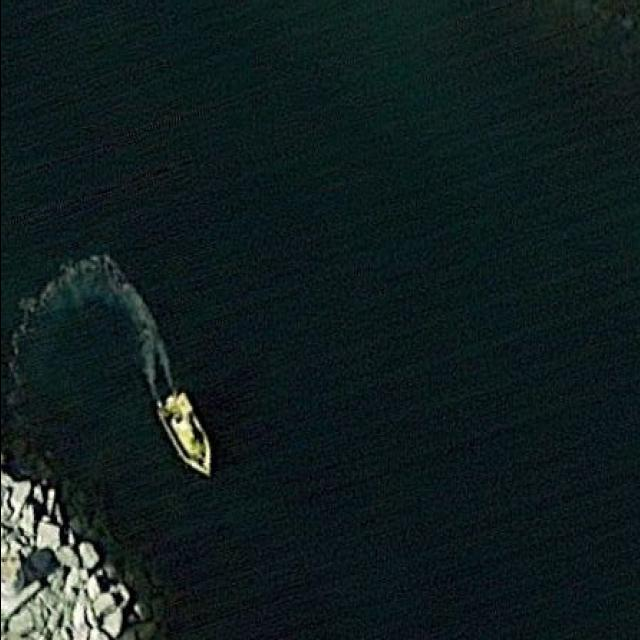ship: (150, 385, 213, 484)
